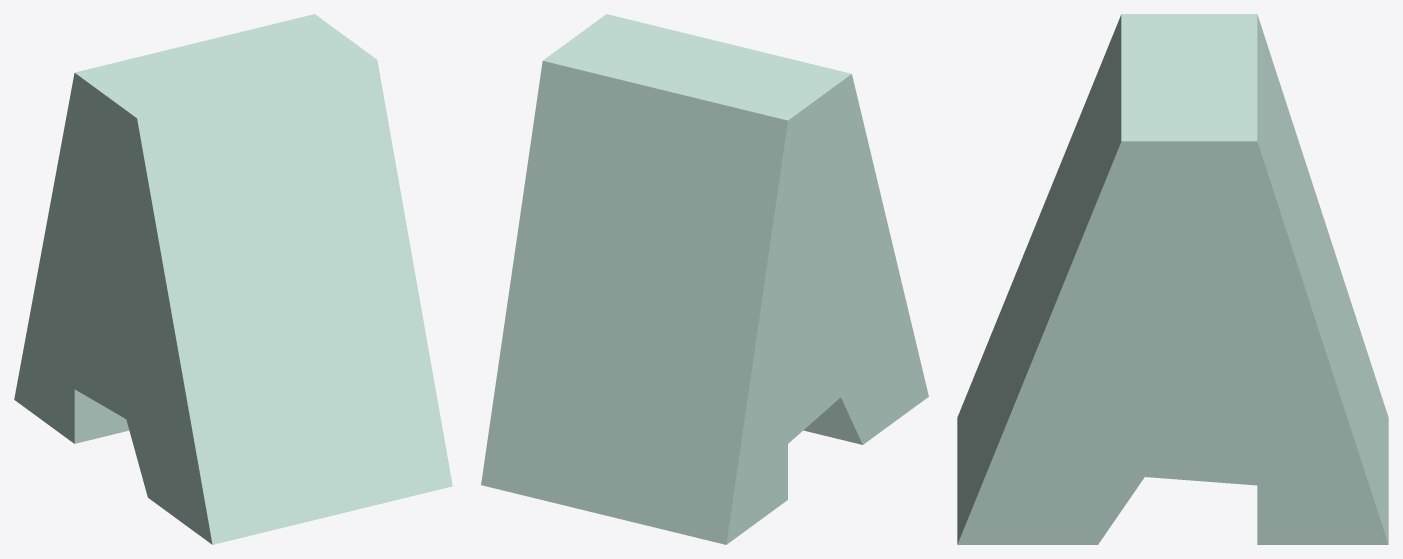
3 renders of one model, left to right at view 1: azimuth 30°, elevation 25°; view 2: azimuth 150°, elevation 25°; view 3: azimuth 270°, elevation 25°, orthographic. The views are drawn at different scales.
Visible parts, largest first — view 1: Renderer Node; view 2: Renderer Node; view 3: Renderer Node.
Part boxes in pixels (bbox=[...]): Renderer Node: bbox=[14, 14, 452, 544]; Renderer Node: bbox=[481, 14, 928, 544]; Renderer Node: bbox=[957, 14, 1388, 544].
Bounding box in the file's own units: 0.5078 × 0.75 × 0.7263.
